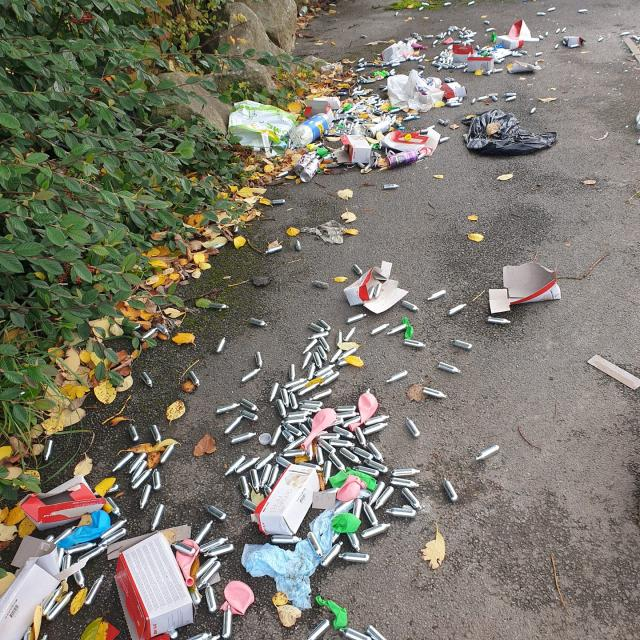garbage: (4, 19, 640, 640)
